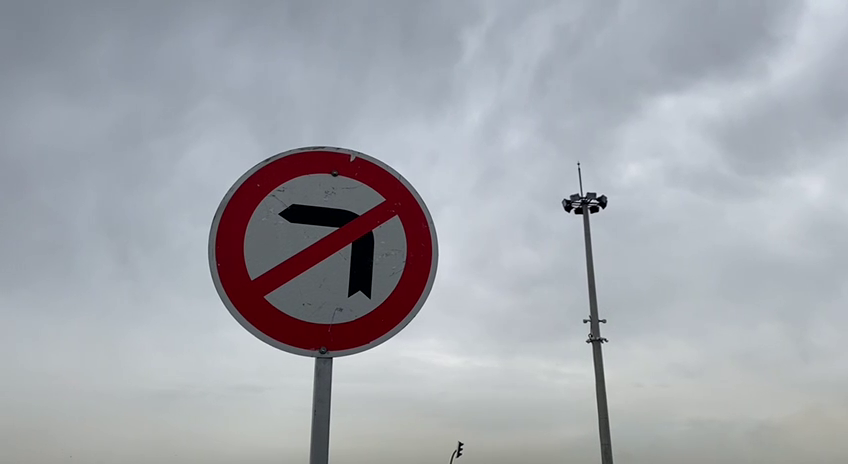noTurnLeft: (203, 138, 444, 361)
